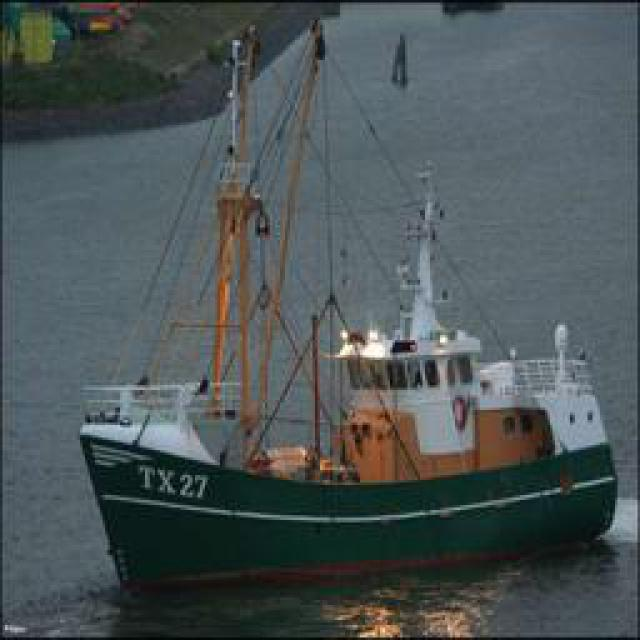Ship: (76, 30, 621, 588)
